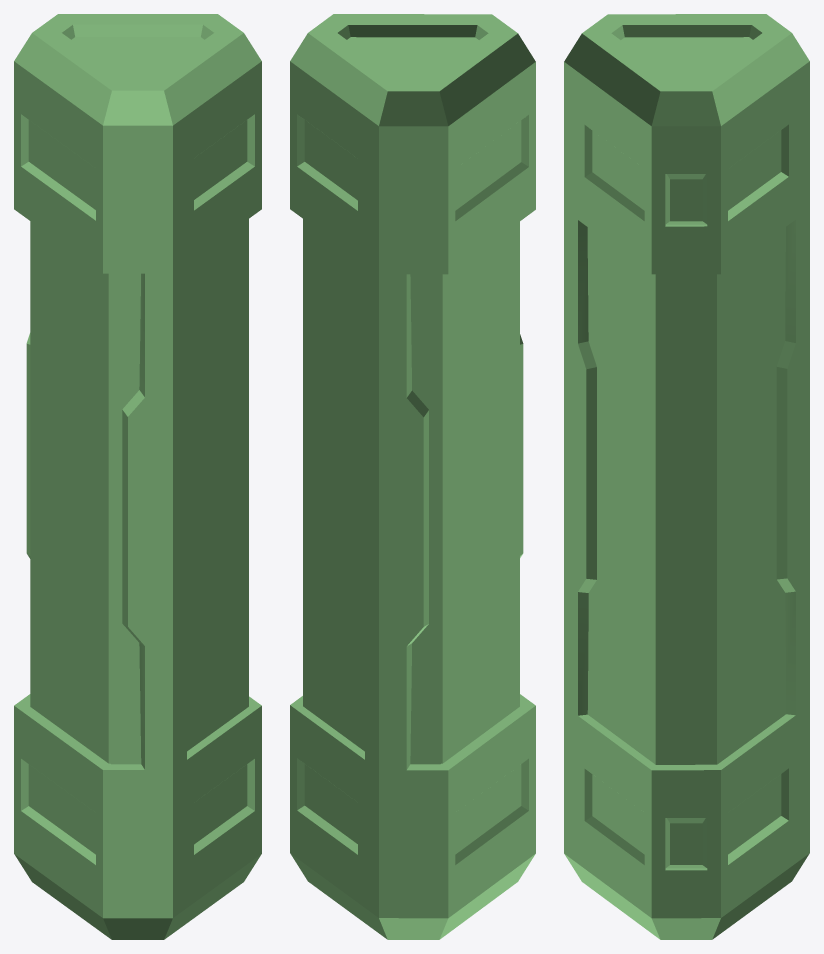
Rendered from energy 5.fbx.
3 renders of one model, left to right at view 1: azimuth 30°, elevation 25°; view 2: azimuth 150°, elevation 25°; view 3: azimuth 270°, elevation 25°, orthographic.
Visible parts, largest first — view 1: Object007; view 2: Object007; view 3: Object007.
Part boxes in pixels (left/top/right/bottom): Object007: left=14, top=14, right=261, bottom=939; Object007: left=290, top=14, right=535, bottom=939; Object007: left=564, top=14, right=809, bottom=939.
Size of the model in its own units: 1237 by 5400 by 1418.
